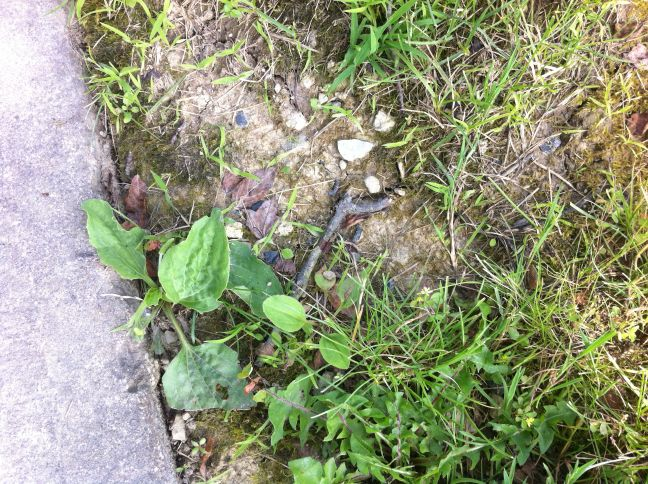weed1: (66, 188, 297, 421)
